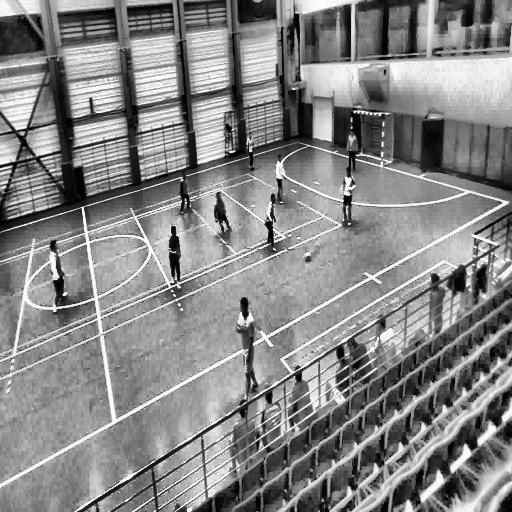ball: (304, 250, 314, 266)
player: (236, 296, 258, 400), (48, 240, 69, 313), (341, 168, 357, 228), (168, 224, 182, 286), (214, 191, 232, 238), (265, 193, 278, 253), (346, 126, 358, 176), (275, 154, 286, 205), (179, 171, 192, 214), (247, 133, 255, 172)
